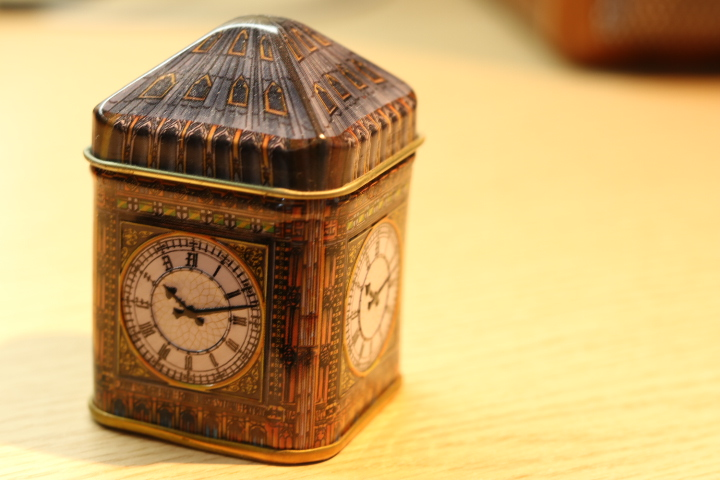Big Ben: (72, 6, 465, 479)
